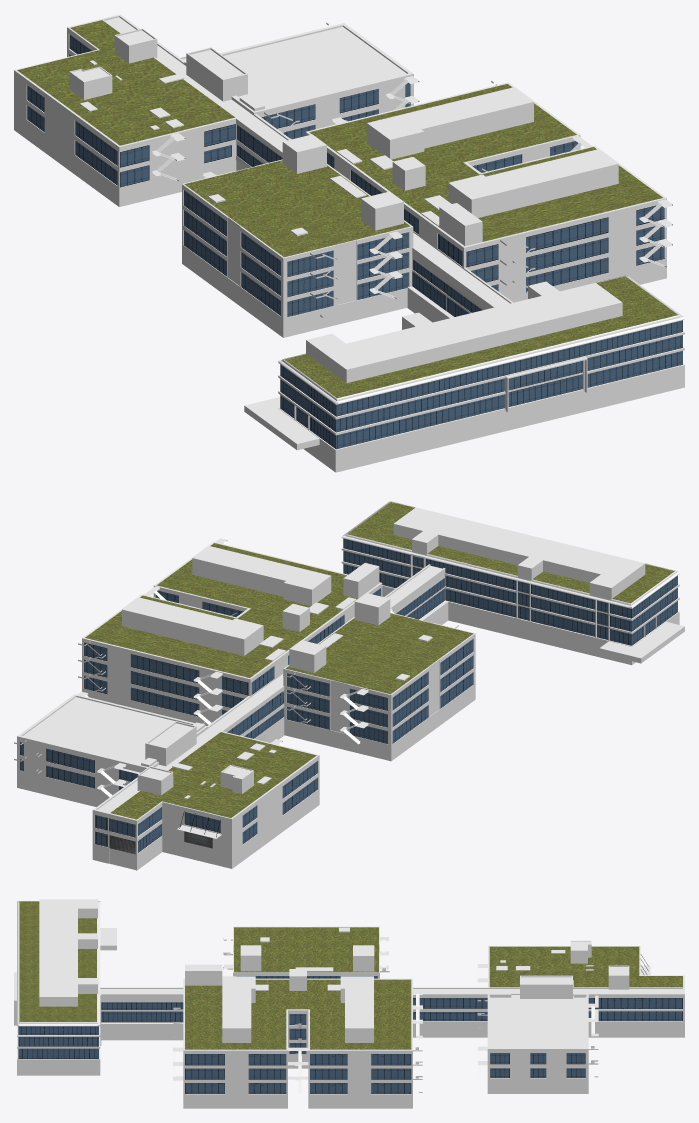
The model's file is CSL-Lengnau_simplified-Main-Building_025.gltf.
The picture shows the model from 3 angles, top to bottom: view 1: azimuth 30°, elevation 25°; view 2: azimuth 150°, elevation 25°; view 3: azimuth 270°, elevation 25°; orthographic projection. The views are drawn at different scales.
Parts seen in each view (by area): view 1: simplified_Building_A_ADMINISTRATION:PIV, simplified_Building_B_BULK_PRODUCTION:PIV, simplified_Building_C_FILLING:PIV, simplified_Building_E_LOGISTICS:PIV, simplified_Building_D_CENTRAL_UTILITIES:PIV; view 2: simplified_Building_B_BULK_PRODUCTION:PIV, simplified_Building_A_ADMINISTRATION:PIV, simplified_Building_E_LOGISTICS:PIV, simplified_Building_C_FILLING:PIV, simplified_Building_D_CENTRAL_UTILITIES:PIV; view 3: simplified_Building_B_BULK_PRODUCTION:PIV, simplified_Building_A_ADMINISTRATION:PIV, simplified_Building_E_LOGISTICS:PIV, simplified_Building_D_CENTRAL_UTILITIES:PIV, simplified_Building_C_FILLING:PIV.
Part boxes in pixels (x1,y1,x2,y2): simplified_Building_A_ADMINISTRATION:PIV: [244, 268, 684, 472]; simplified_Building_B_BULK_PRODUCTION:PIV: [305, 81, 672, 322]; simplified_Building_C_FILLING:PIV: [182, 134, 413, 337]; simplified_Building_E_LOGISTICS:PIV: [14, 14, 290, 206]; simplified_Building_D_CENTRAL_UTILITIES:PIV: [180, 23, 419, 139]; simplified_Building_B_BULK_PRODUCTION:PIV: [78, 538, 396, 742]; simplified_Building_A_ADMINISTRATION:PIV: [341, 501, 684, 665]; simplified_Building_E_LOGISTICS:PIV: [92, 696, 319, 870]; simplified_Building_C_FILLING:PIV: [283, 593, 475, 761]; simplified_Building_D_CENTRAL_UTILITIES:PIV: [14, 691, 207, 806]; simplified_Building_B_BULK_PRODUCTION:PIV: [173, 964, 422, 1108]; simplified_Building_A_ADMINISTRATION:PIV: [14, 899, 183, 1075]; simplified_Building_E_LOGISTICS:PIV: [413, 940, 684, 1037]; simplified_Building_D_CENTRAL_UTILITIES:PIV: [477, 975, 598, 1093]; simplified_Building_C_FILLING:PIV: [223, 926, 389, 978].
Size of the model in its own units: 70.27 by 14.86 by 120.
Materials: 8 (3 with a texture image).
